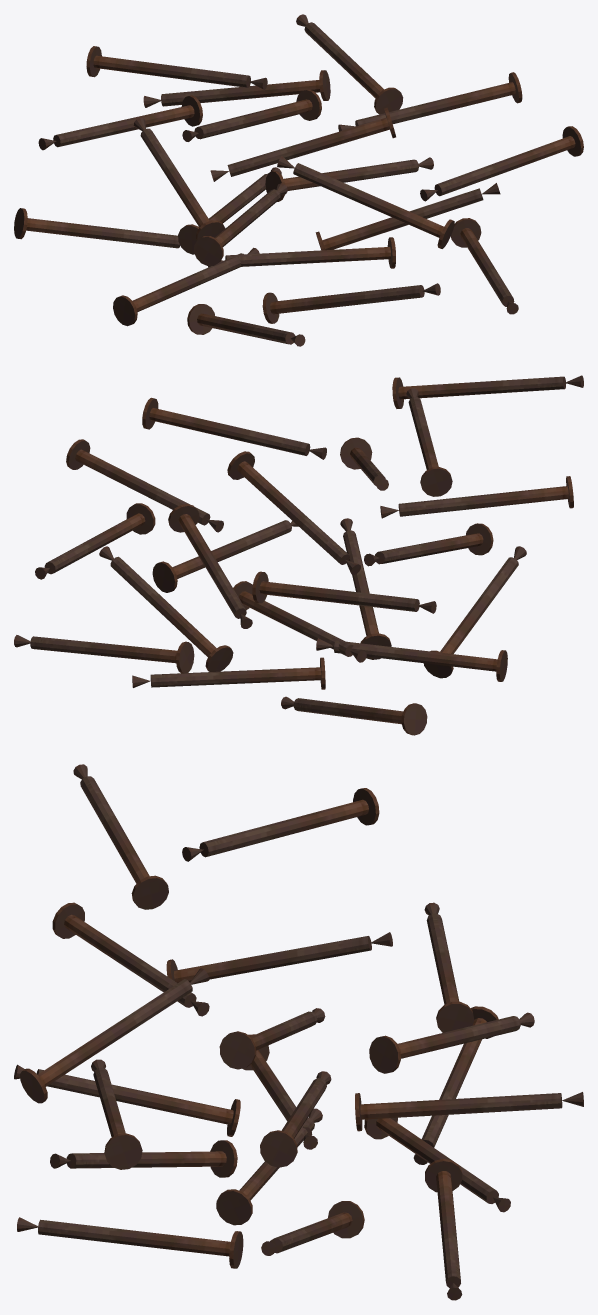
File: EST-PRG-001_anim.glb
3 renders of one model, top to bottom at view 1: azimuth 30°, elevation 25°; view 2: azimuth 150°, elevation 25°; view 3: azimuth 270°, elevation 25°, orthographic. The views are drawn at different scales.
Visible parts, largest first — view 1: EST-PRG-001_anim3, EST-PRG-001_anim19, EST-PRG-001_anim12, EST-PRG-001_anim13, EST-PRG-001_anim15, EST-PRG-001_anim2, EST-PRG-001_anim14, EST-PRG-001_anim11, EST-PRG-001_anim4, EST-PRG-001_anim16, EST-PRG-001_anim18, EST-PRG-001_anim1 (+8 smaller); view 2: EST-PRG-001_anim11, EST-PRG-001_anim9, EST-PRG-001_anim15, EST-PRG-001_anim5, EST-PRG-001_anim8, EST-PRG-001_anim18, EST-PRG-001_anim7, EST-PRG-001_anim13, EST-PRG-001_anim1, EST-PRG-001_anim2, EST-PRG-001_anim16, EST-PRG-001_anim14 (+8 smaller); view 3: EST-PRG-001_anim17, EST-PRG-001_anim6, EST-PRG-001_anim12, EST-PRG-001_anim19, EST-PRG-001_anim10, EST-PRG-001_anim14, EST-PRG-001_anim0, EST-PRG-001_anim18, EST-PRG-001_anim9, EST-PRG-001_anim3, EST-PRG-001_anim8, EST-PRG-001_anim11 (+8 smaller).
Boxes of the visible parts, x1,y1,x2,y2 form: EST-PRG-001_anim3: (262,283,440,323); EST-PRG-001_anim19: (86,46,267,89); EST-PRG-001_anim12: (277,156,454,248); EST-PRG-001_anim13: (210,107,395,181); EST-PRG-001_anim15: (420,126,583,201); EST-PRG-001_anim2: (14,208,180,248); EST-PRG-001_anim14: (143,70,330,107); EST-PRG-001_anim11: (38,95,202,150); EST-PRG-001_anim4: (208,237,395,268); EST-PRG-001_anim16: (338,72,522,131); EST-PRG-001_anim18: (182,89,321,141); EST-PRG-001_anim1: (113,247,259,326); EST-PRG-001_anim11: (252,571,436,613); EST-PRG-001_anim9: (380,476,573,518); EST-PRG-001_anim15: (142,397,326,459); EST-PRG-001_anim5: (132,657,325,689); EST-PRG-001_anim8: (14,635,194,673); EST-PRG-001_anim18: (392,375,583,408); EST-PRG-001_anim7: (99,546,233,671); EST-PRG-001_anim13: (227,451,360,574); EST-PRG-001_anim1: (316,638,507,681); EST-PRG-001_anim2: (281,696,427,735); EST-PRG-001_anim16: (66,439,223,532); EST-PRG-001_anim14: (168,504,252,628); EST-PRG-001_anim17: (355,1092,583,1131); EST-PRG-001_anim6: (17,1217,243,1268); EST-PRG-001_anim12: (20,968,209,1103); EST-PRG-001_anim19: (182,788,379,861); EST-PRG-001_anim10: (166,932,392,983); EST-PRG-001_anim14: (369,1012,534,1073); EST-PRG-001_anim0: (14,1064,240,1136); EST-PRG-001_anim18: (73,764,168,909); EST-PRG-001_anim9: (52,902,209,1016); EST-PRG-001_anim3: (50,1140,237,1177); EST-PRG-001_anim8: (425,1158,462,1300); EST-PRG-001_anim11: (424,902,474,1032).
Size of the model in its own units: 0.124 by 0.0758 by 0.1194.
Materials: 1 (1 with a texture image).
